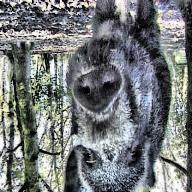boar: (42, 5, 186, 192)
